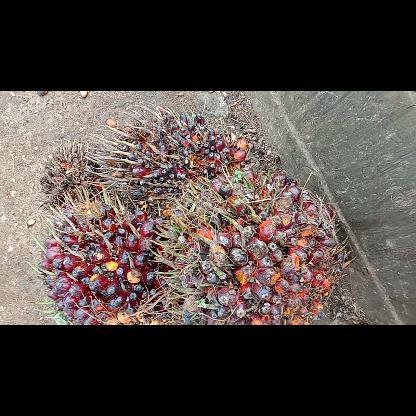TBS abnormal: (84, 101, 252, 215), (32, 136, 108, 208)
TBS masak: (144, 162, 360, 324), (26, 184, 184, 324)
